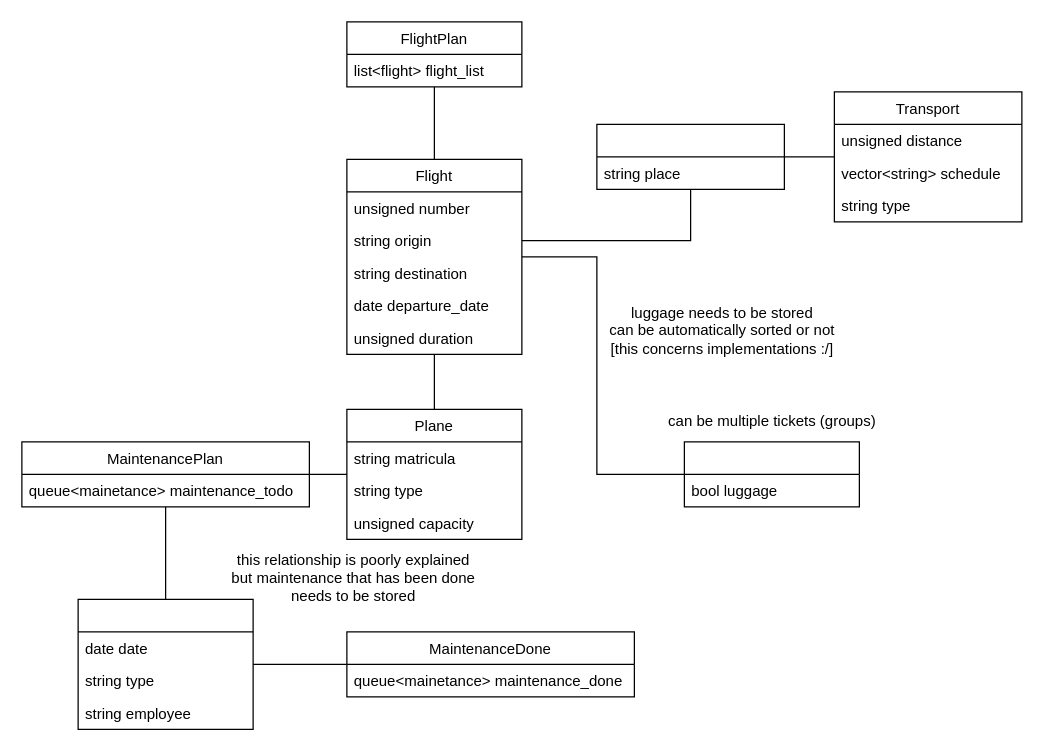
Some shapes in this 1044 by 755 pixel diagram are drawn without their labels. Each missing label, with the box of its shape:
Airport: (596, 123, 784, 189)
Mainetance: (77, 598, 253, 729)
Ticket: (683, 441, 859, 507)
